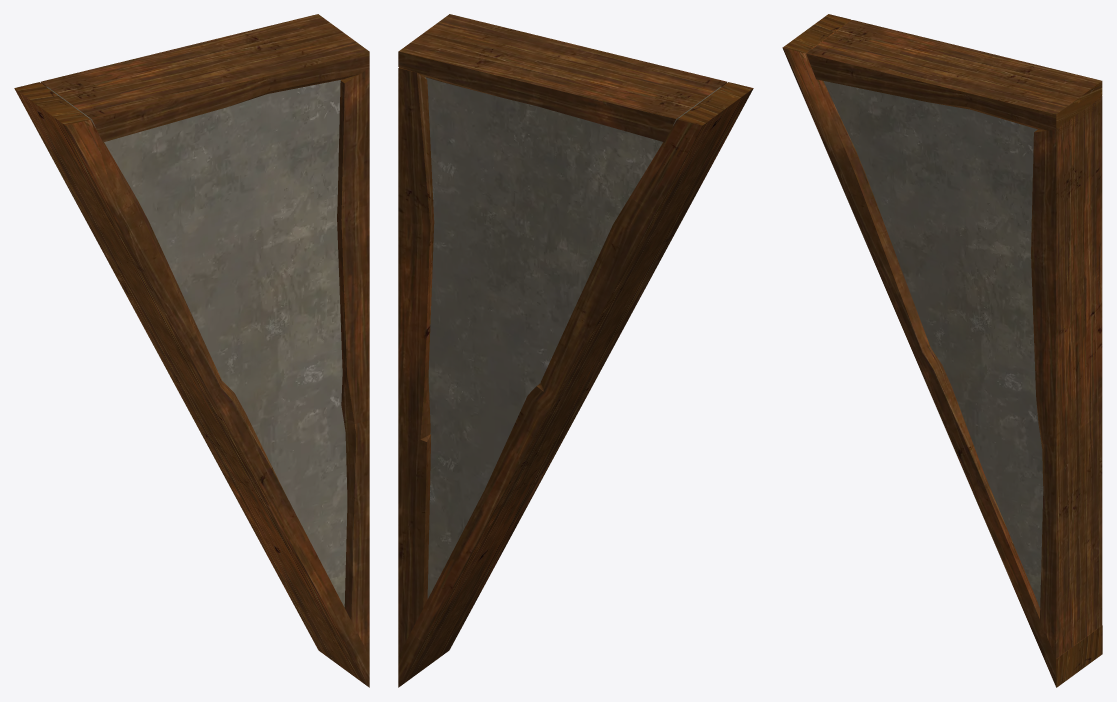
The picture shows the model from 3 angles, left to right: view 1: azimuth 30°, elevation 25°; view 2: azimuth 150°, elevation 25°; view 3: azimuth 330°, elevation 25°; orthographic projection. The views are drawn at different scales.
Parts seen in each view (by area): view 1: SM_BB_T2_Wall_Slanted_Steep_Large_Inverted_LOD0; view 2: SM_BB_T2_Wall_Slanted_Steep_Large_Inverted_LOD0; view 3: SM_BB_T2_Wall_Slanted_Steep_Large_Inverted_LOD0.
Part boxes in pixels (x1,y1,x2,y2): SM_BB_T2_Wall_Slanted_Steep_Large_Inverted_LOD0: (14, 14, 369, 687); SM_BB_T2_Wall_Slanted_Steep_Large_Inverted_LOD0: (398, 14, 753, 687); SM_BB_T2_Wall_Slanted_Steep_Large_Inverted_LOD0: (782, 14, 1102, 687).
Size of the model in its own units: 1.54 by 3.07 by 0.448.
Materials: 2 (2 with a texture image).
